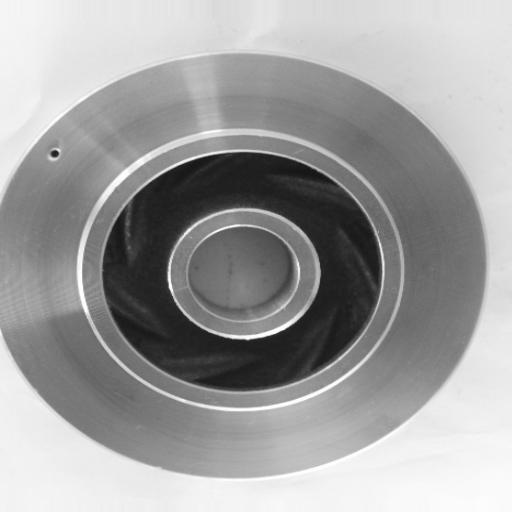pit: (38, 140, 71, 170)
unpolished_casting: (2, 49, 489, 483)
